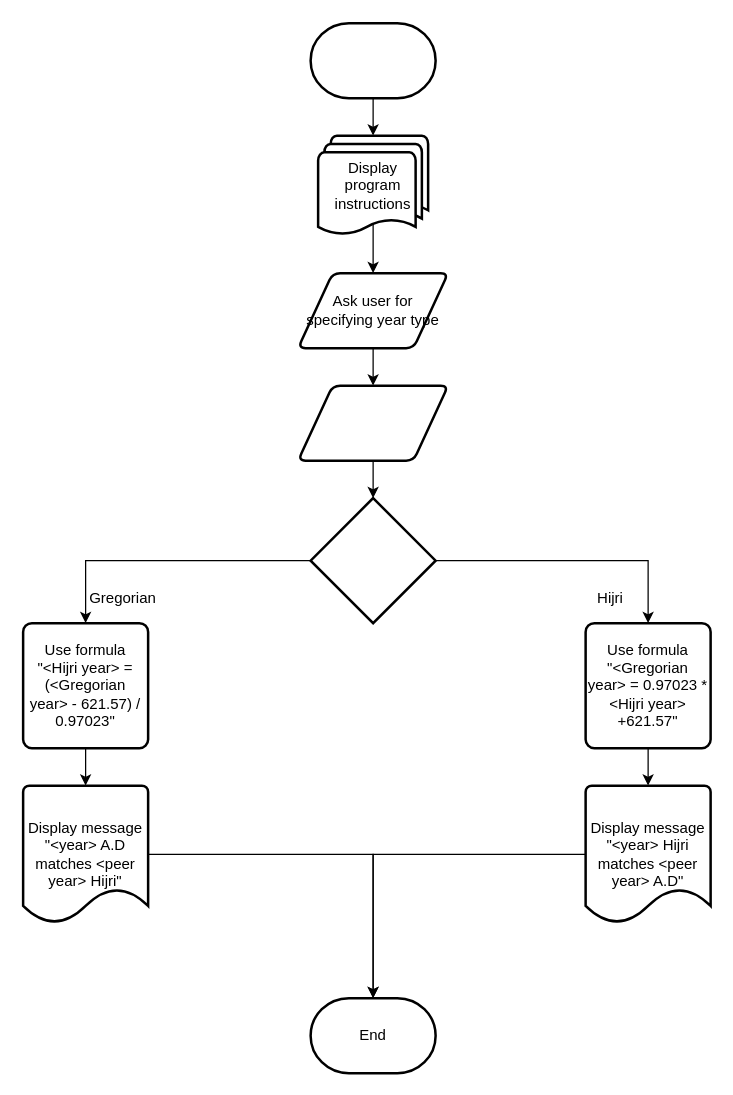
This 733x1095 diagram has some shape labels left out. Here are the shapes that lost their labels. From the top down, the centre of each, then its label:
At (372,60): "Start".
At (372,422): "Ask user for year".
At (372,560): "Which type of year is the input?".
